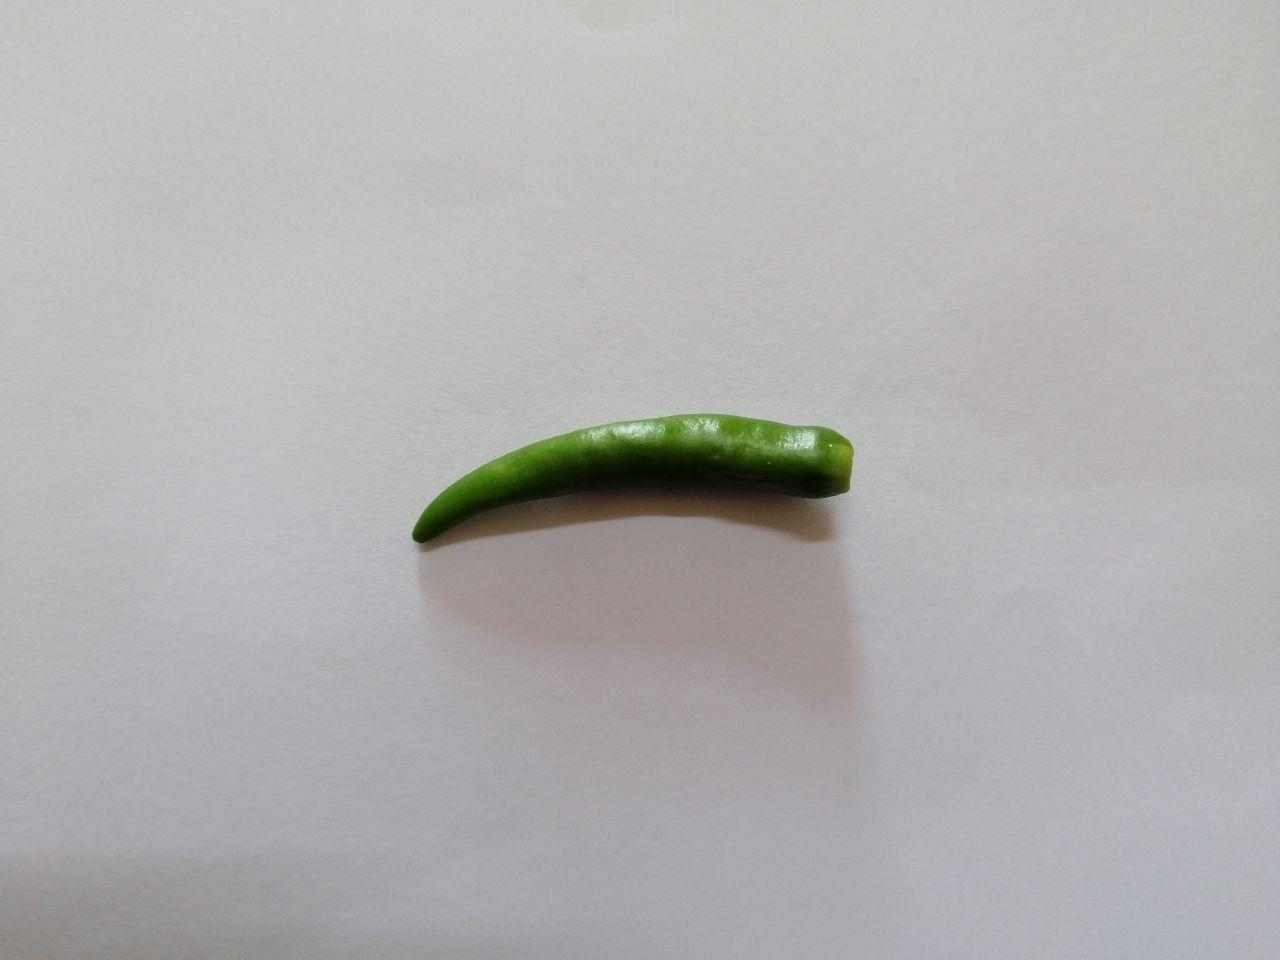lada hijau: (397, 402, 863, 559)
